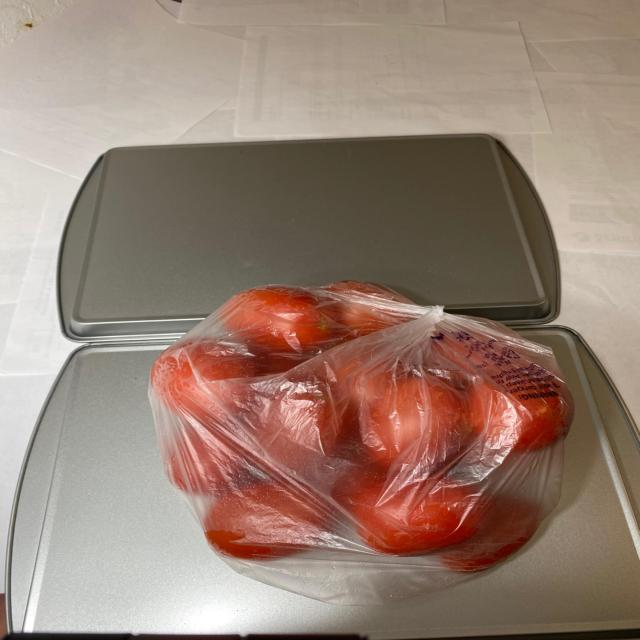tomato: (152, 279, 575, 580)
